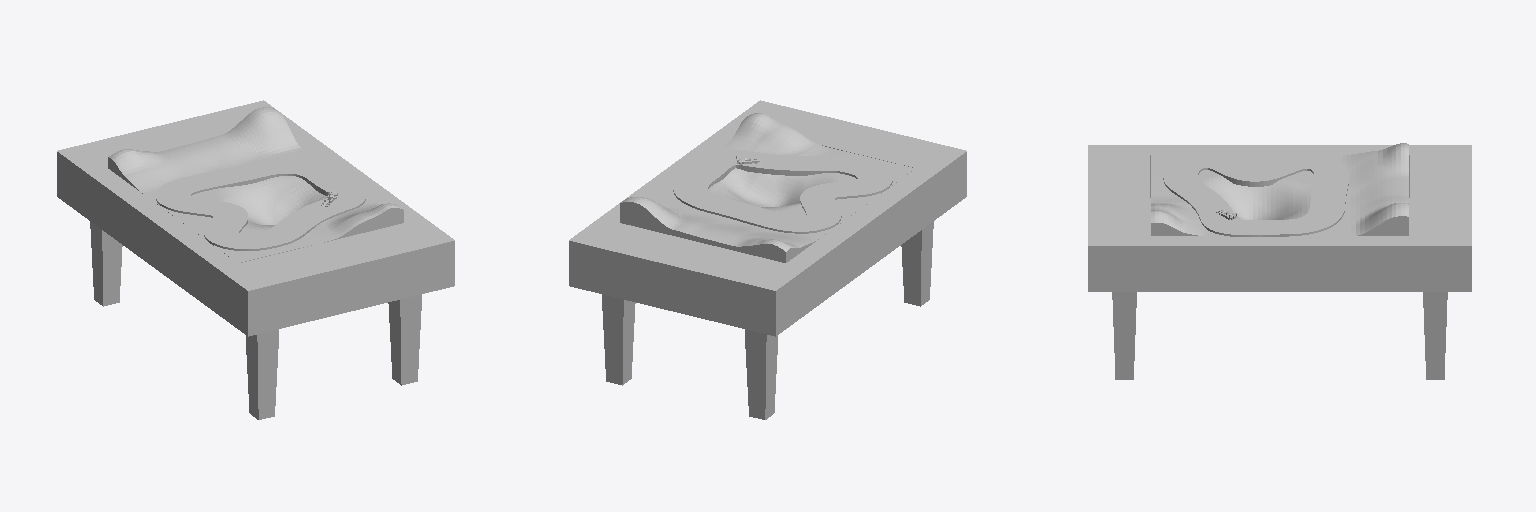
Rendered from NewestTisch35.obj.
The picture shows the model from 3 angles: view 1: azimuth 30°, elevation 25°; view 2: azimuth 150°, elevation 25°; view 3: azimuth 270°, elevation 25°; orthographic projection.
Parts seen in each view (by area): view 1: Tischplatte_wood_table_001, Landschaft_aerial_grass_rock, off, Bein1_wood_table_001, Bein4_wood_table_001.003, Bein3_wood_table_001.002; view 2: Tischplatte_wood_table_001, Landschaft_aerial_grass_rock, off, Bein2_wood_table_001.001, Bein3_wood_table_001.002, Bein4_wood_table_001.003; view 3: Tischplatte_wood_table_001, Landschaft_aerial_grass_rock, off, Bein1_wood_table_001, Bein2_wood_table_001.001.
Boxes of the visible parts, x1,y1,x2,y2 form: Tischplatte_wood_table_001: [57, 100, 454, 336]; Landschaft_aerial_grass_rock: [108, 107, 403, 262]; off: [156, 159, 365, 250]; Bein1_wood_table_001: [388, 294, 421, 385]; Bein4_wood_table_001.003: [246, 329, 278, 419]; Bein3_wood_table_001.002: [90, 221, 122, 306]; Tischplatte_wood_table_001: [569, 100, 966, 336]; Landschaft_aerial_grass_rock: [620, 113, 915, 262]; off: [673, 150, 892, 233]; Bein2_wood_table_001.001: [602, 294, 635, 385]; Bein3_wood_table_001.002: [745, 329, 777, 419]; Bein4_wood_table_001.003: [901, 221, 933, 306]; Tischplatte_wood_table_001: [1088, 145, 1471, 291]; Landschaft_aerial_grass_rock: [1151, 143, 1408, 235]; off: [1163, 153, 1348, 236]; Bein1_wood_table_001: [1112, 292, 1136, 379]; Bein2_wood_table_001.001: [1423, 292, 1447, 379].
Bounding box in the file's own units: 5 × 3.91 × 8.